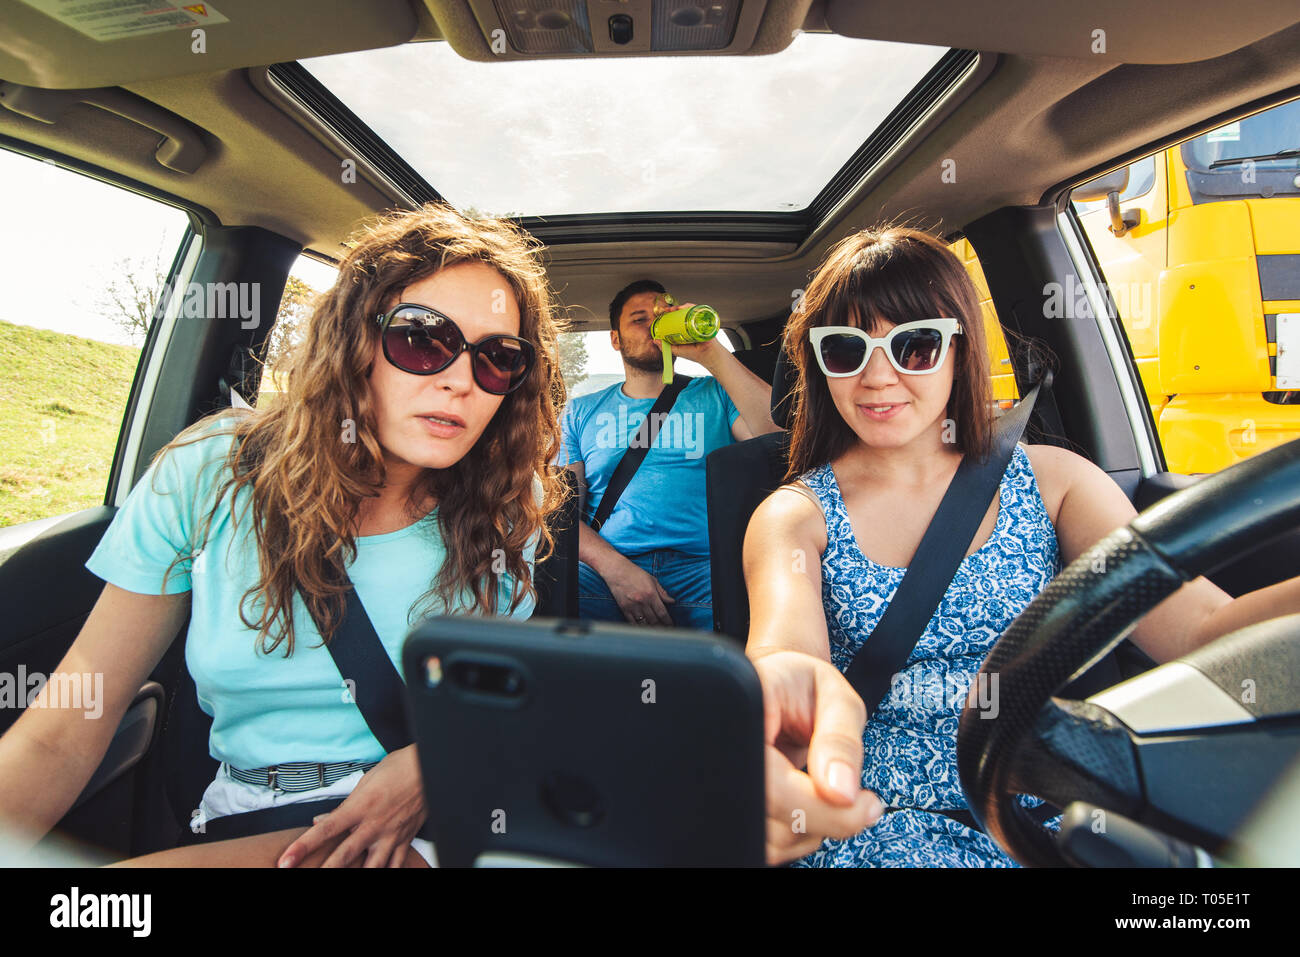person: (358, 239, 527, 472), (808, 288, 974, 451), (609, 285, 682, 368)
